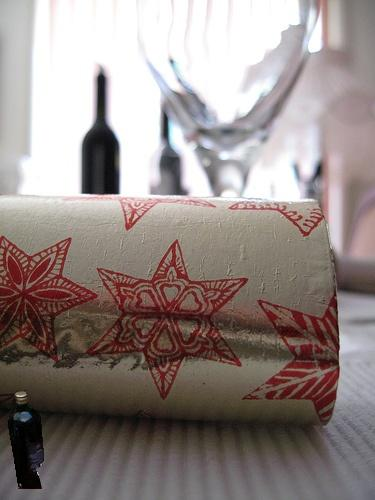tampered: (9, 391, 44, 489)
